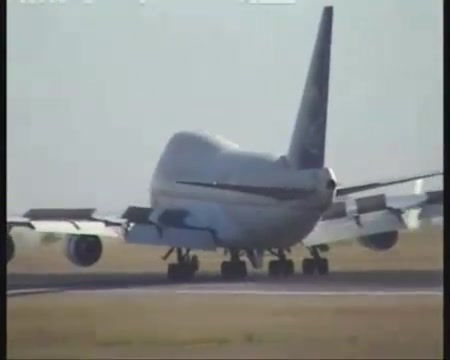aeroplane: (9, 5, 446, 284)
